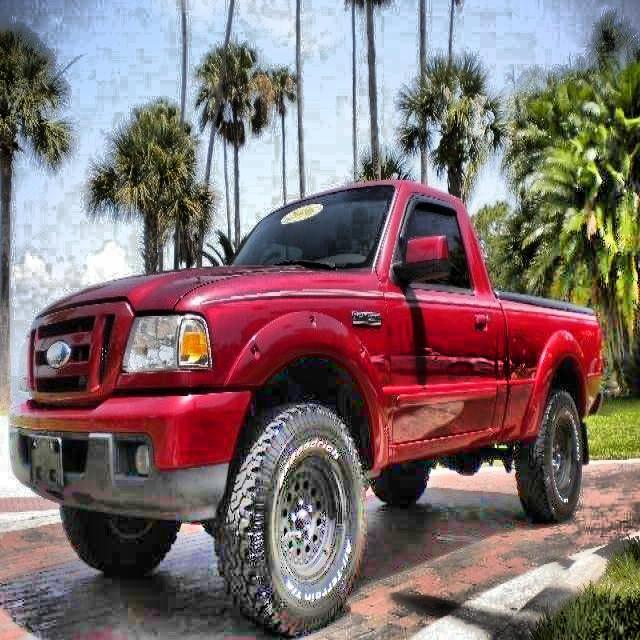dump_truck: (7, 180, 605, 640)
